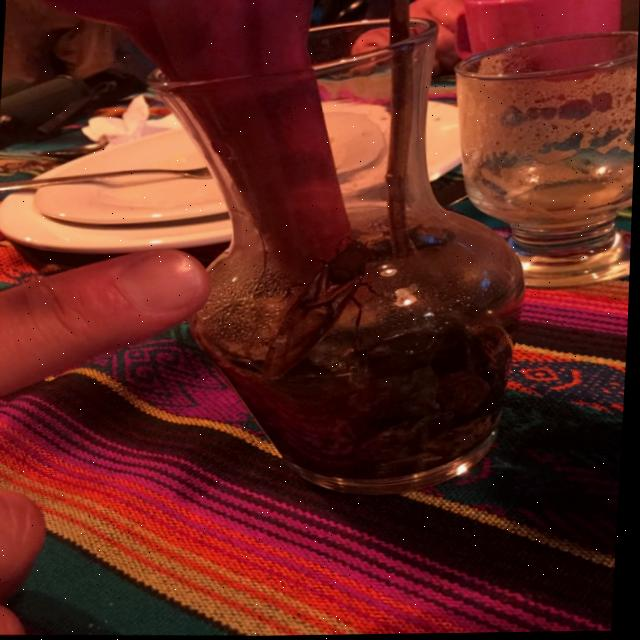Alive-Female-Alate: (262, 234, 385, 384)
